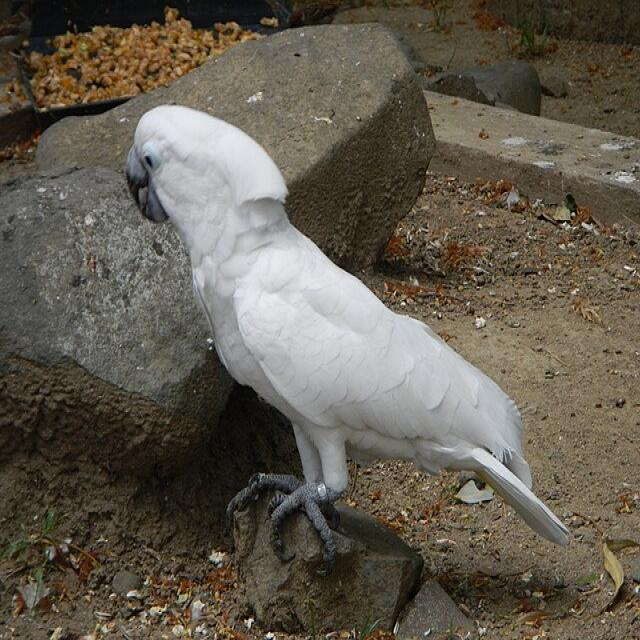Kakatua Putih: (98, 86, 590, 600)
